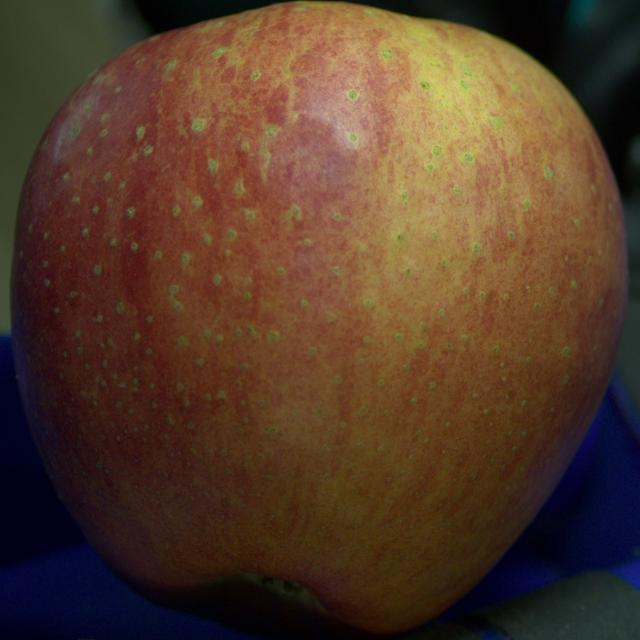apple: (11, 1, 627, 638)
